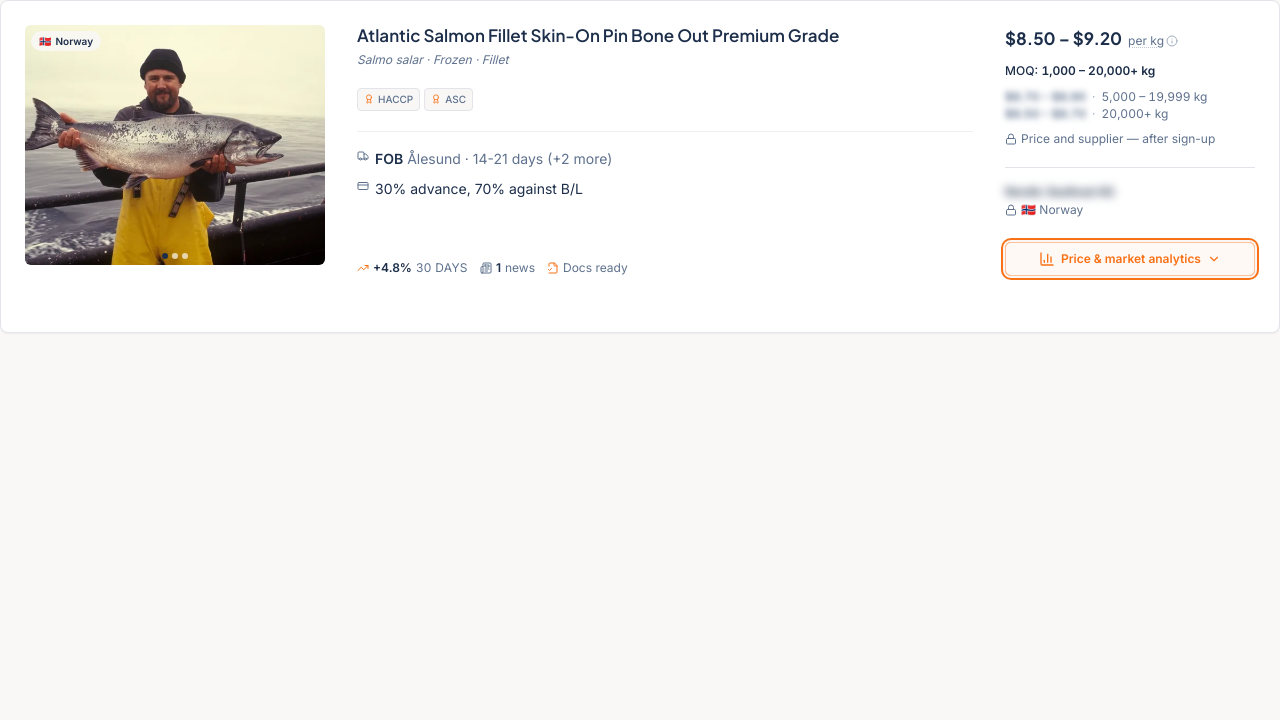
Scenario: CatalogOfferRow · «Аналитика» — клавиатурное управление › Enter на кнопке открывает панель (нативное поведение <button>)
Press Enter in the button with test id "catalog-row-analytics-toggle", box [1005, 242, 1255, 276]
Click the button with test id "catalog-row-analytics-toggle" at (1130, 259), box [1005, 242, 1255, 276]
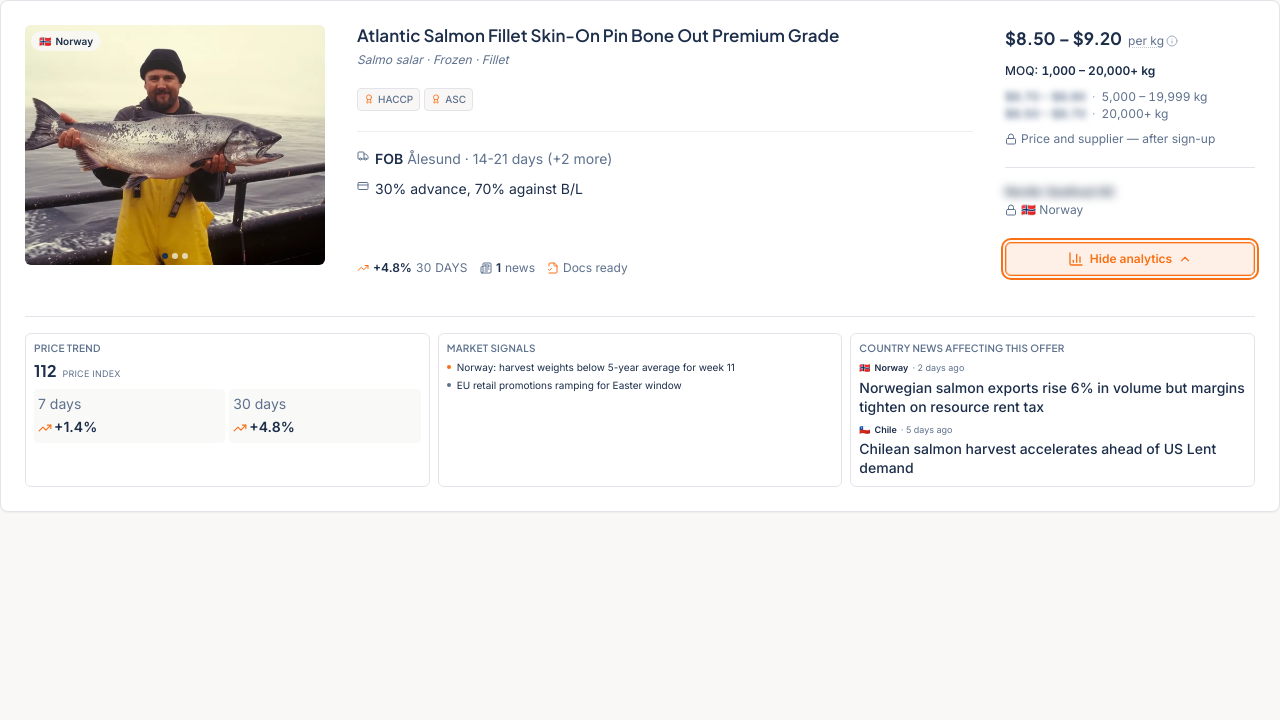
Expected: the button with test id "catalog-row-analytics-toggle" is expanded, [1005, 242, 1255, 276]
